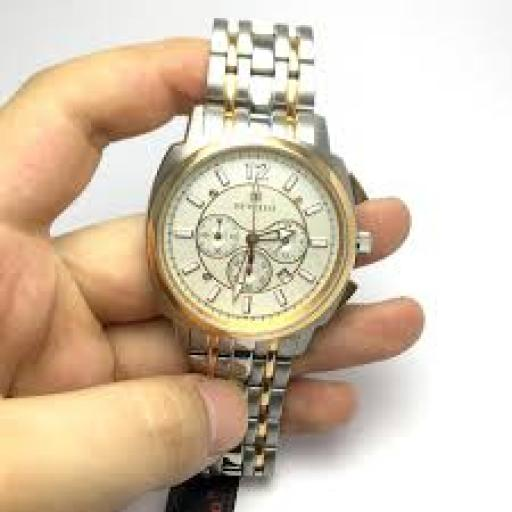KolSaati: (140, 0, 373, 490)
